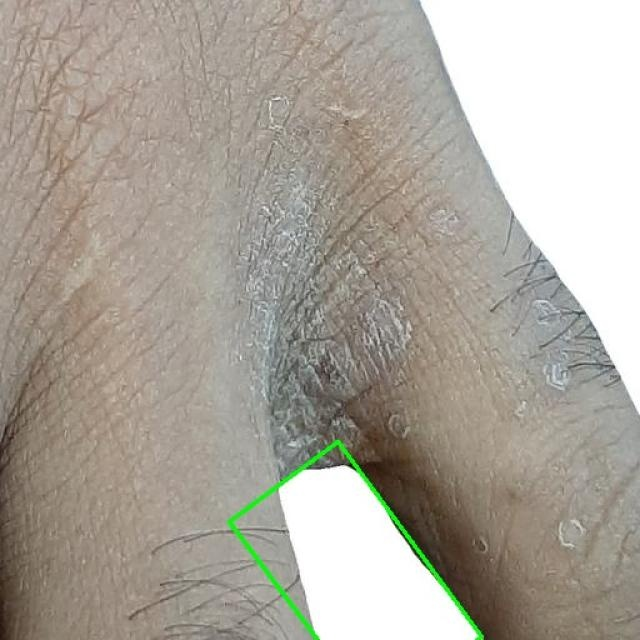Scabies: (229, 442, 482, 640)
